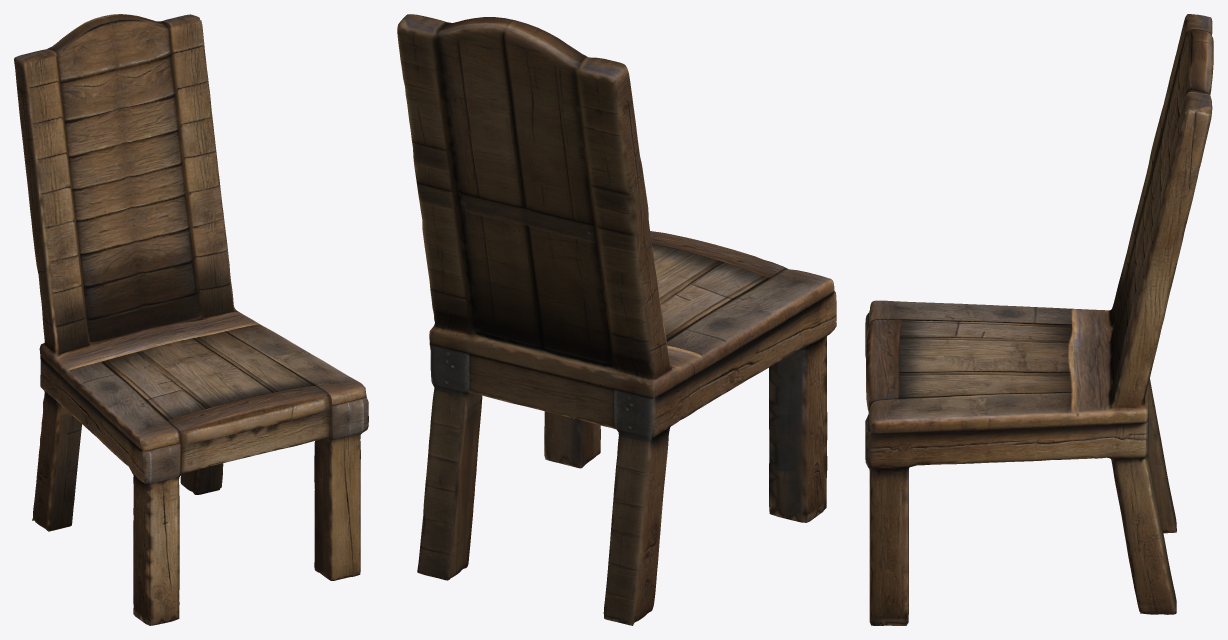
Rendered from sandalyemasa.fbx.
3 renders of one model, left to right at view 1: azimuth 30°, elevation 25°; view 2: azimuth 150°, elevation 25°; view 3: azimuth 270°, elevation 25°, orthographic. The views are drawn at different scales.
Visible parts, largest first — view 1: Mesh0; view 2: Mesh0; view 3: Mesh0.
Part boxes in pixels (left/top/right/bottom): Mesh0: left=14, top=14, right=368, bottom=625; Mesh0: left=397, top=14, right=836, bottom=625; Mesh0: left=865, top=14, right=1213, bottom=625.
Bounding box in the file's own units: 99.7 × 201 × 120.
Materials: 1 (1 with a texture image).
